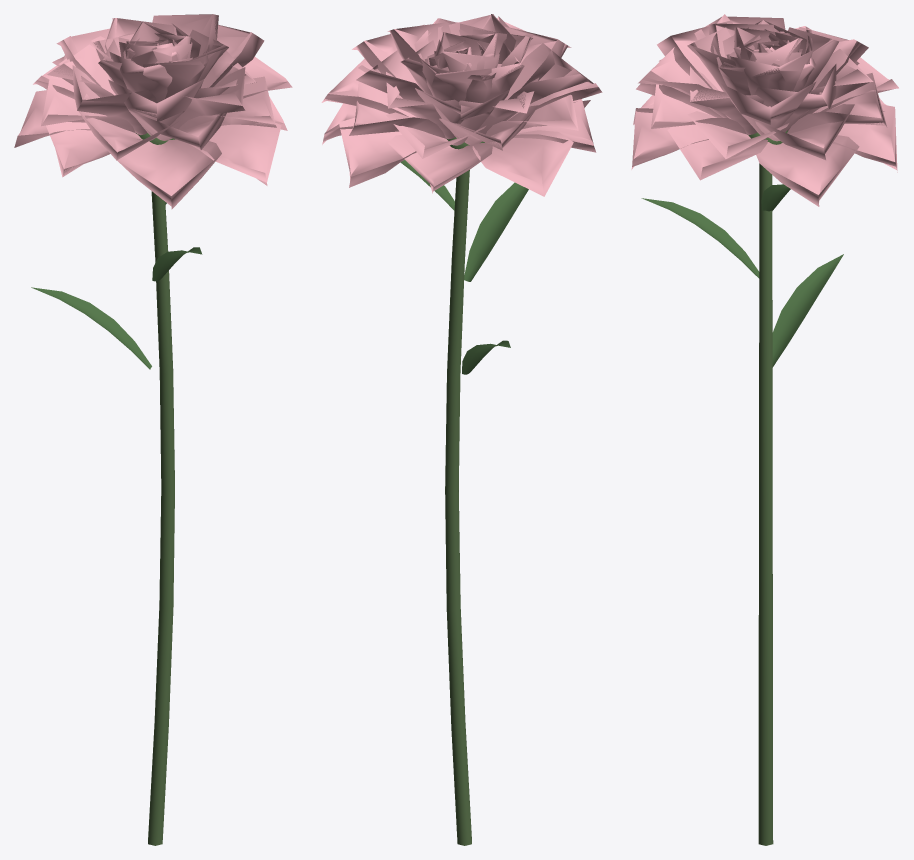
File: peony.glb
3 renders of one model, left to right at view 1: azimuth 30°, elevation 25°; view 2: azimuth 150°, elevation 25°; view 3: azimuth 270°, elevation 25°, orthographic.
Visible parts, largest first — view 1: peony; view 2: peony; view 3: peony.
Boxes of the visible parts, x1,y1,x2,y2 form: peony: [14, 14, 292, 845]; peony: [321, 14, 602, 845]; peony: [631, 14, 898, 845].
Size of the model in its own units: 0.1078 by 0.3589 by 0.1081.
